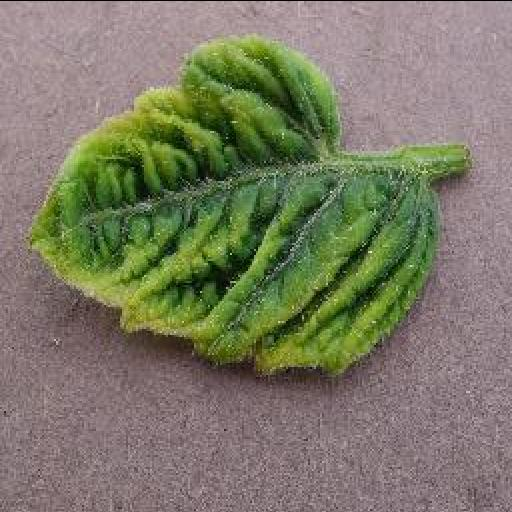disease_tomato: (22, 28, 444, 382)
